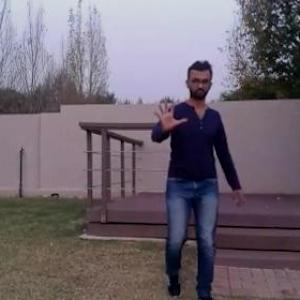follow_hand: (149, 93, 187, 133)
